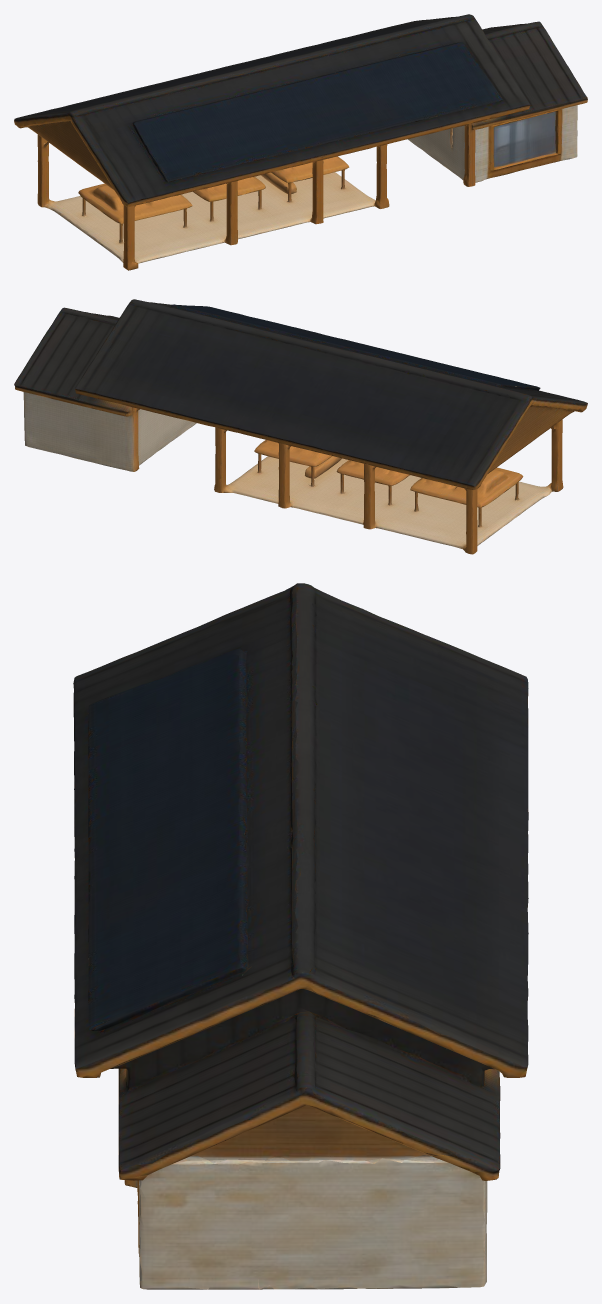
File: harvest-market.glb
The picture shows the model from 3 angles, top to bottom: view 1: azimuth 30°, elevation 25°; view 2: azimuth 150°, elevation 25°; view 3: azimuth 270°, elevation 25°; orthographic projection. The views are drawn at different scales.
Visible parts, largest first — view 1: Mesh; view 2: Mesh; view 3: Mesh.
Part boxes in pixels (x1,y1,x2,y2): Mesh: [14, 14, 587, 270]; Mesh: [14, 299, 587, 554]; Mesh: [73, 583, 528, 1289].
Bounding box in the file's own units: 1.9 × 0.4998 × 0.7966.
Materials: 1 (1 with a texture image).
